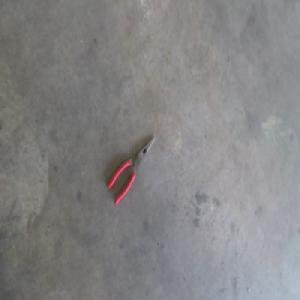Pliers: (108, 131, 157, 204)
